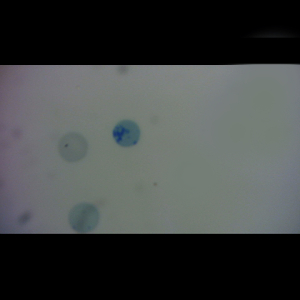aggregate reticulocyte: (112, 120, 141, 147)
punctate reticulocyte: (68, 203, 100, 233), (57, 133, 88, 162)
